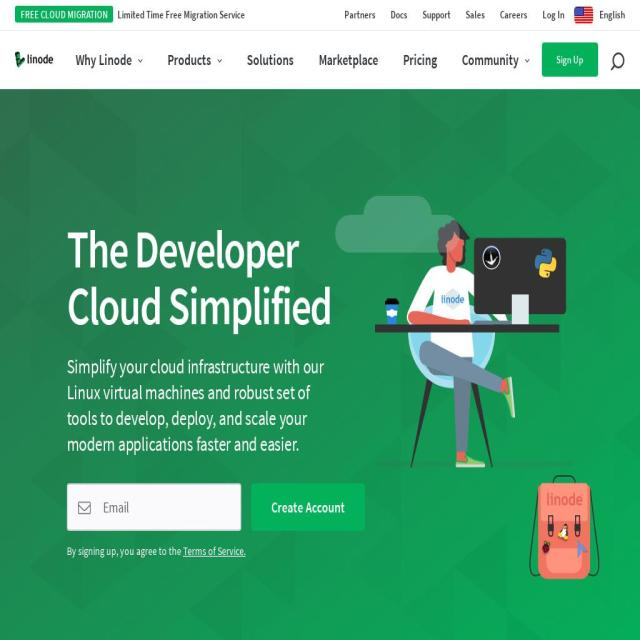button: (251, 482, 366, 531), (15, 6, 245, 24), (75, 40, 143, 79), (462, 40, 530, 79), (318, 40, 378, 79), (167, 40, 222, 79), (541, 42, 598, 78), (246, 40, 294, 79), (402, 40, 437, 79), (344, 0, 376, 30), (422, 0, 450, 30), (500, 0, 528, 30), (542, 0, 564, 30), (15, 52, 53, 68), (466, 0, 485, 30), (611, 40, 625, 79), (390, 0, 408, 30)
field: (66, 482, 242, 531)
heading: (66, 219, 298, 457), (66, 271, 332, 338)
image: (375, 219, 574, 469), (335, 219, 461, 457), (529, 475, 599, 580), (15, 52, 53, 68)
link: (182, 542, 245, 558)
text: (66, 352, 341, 457), (318, 40, 378, 79), (461, 40, 519, 79), (75, 40, 132, 79), (117, 6, 245, 22), (246, 40, 294, 79), (66, 542, 183, 558), (167, 40, 211, 79), (15, 6, 114, 22), (402, 40, 437, 79), (574, 7, 625, 23), (625, 40, 640, 79), (344, 8, 376, 22), (422, 8, 450, 22), (500, 8, 528, 22), (556, 52, 584, 66), (542, 8, 564, 22), (466, 8, 485, 22), (390, 8, 408, 22)
